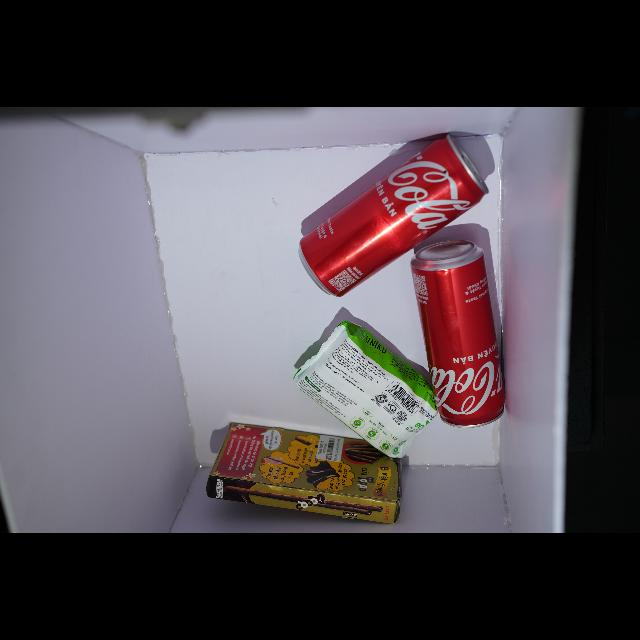banh_toppo_socola: (206, 423, 401, 524)
coca_cola: (300, 136, 488, 296), (411, 240, 505, 427)
khan_giay: (294, 322, 437, 457)
